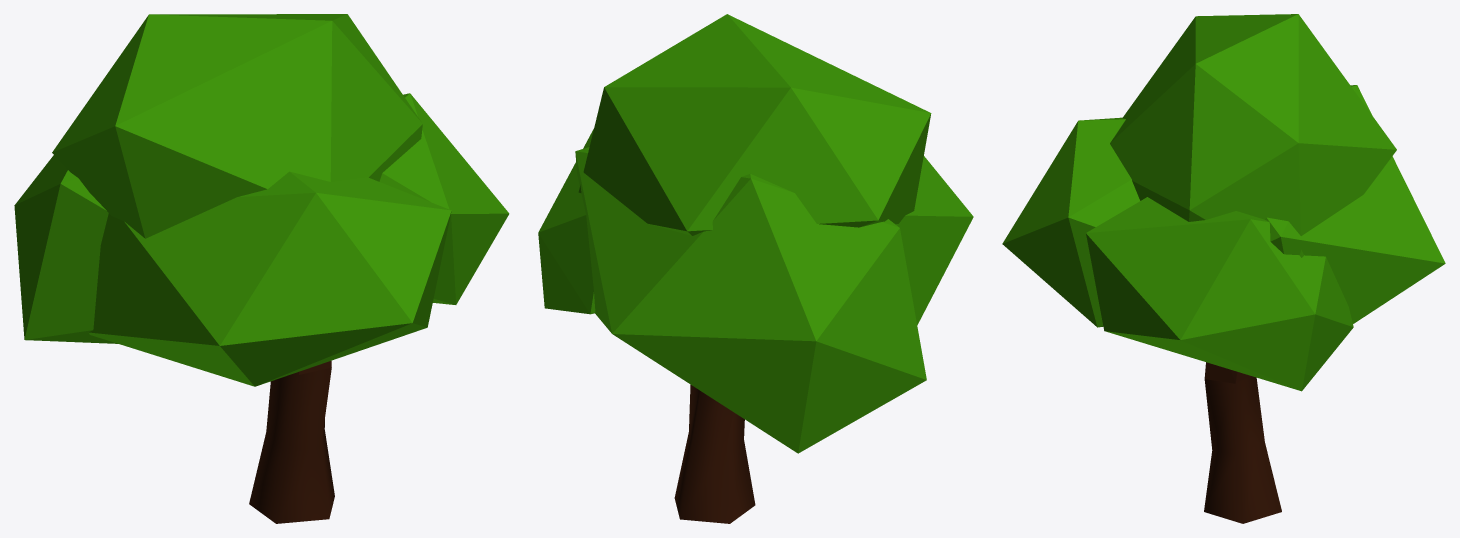
Rendered from Tree 4.FBX.
The picture shows the model from 3 angles, left to right: view 1: azimuth 30°, elevation 25°; view 2: azimuth 150°, elevation 25°; view 3: azimuth 270°, elevation 25°; orthographic projection. The views are drawn at different scales.
Visible parts, largest first — view 1: Tree round12, Tree round015, Tree round014, Treetrunk12, Tree round013; view 2: Tree round014, Tree round12, Treetrunk12, Tree round015, Tree round013; view 3: Tree round12, Tree round013, Tree round015, Tree round014, Treetrunk12.
Part boxes in pixels (x1,y1,x2,y2): Tree round12: [52, 14, 422, 238]; Tree round015: [88, 171, 451, 386]; Tree round014: [14, 155, 117, 343]; Treetrunk12: [249, 361, 334, 523]; Tree round013: [379, 93, 509, 304]; Tree round014: [575, 147, 926, 453]; Tree round12: [578, 14, 931, 235]; Treetrunk12: [674, 384, 755, 523]; Tree round015: [895, 156, 973, 324]; Tree round013: [538, 129, 595, 314]; Tree round12: [1110, 14, 1396, 257]; Tree round013: [1086, 197, 1353, 391]; Tree round015: [1002, 117, 1139, 327]; Tree round014: [1265, 85, 1445, 323]; Treetrunk12: [1204, 362, 1281, 523].
Size of the model in its own units: 39.48 by 44.19 by 39.7.
